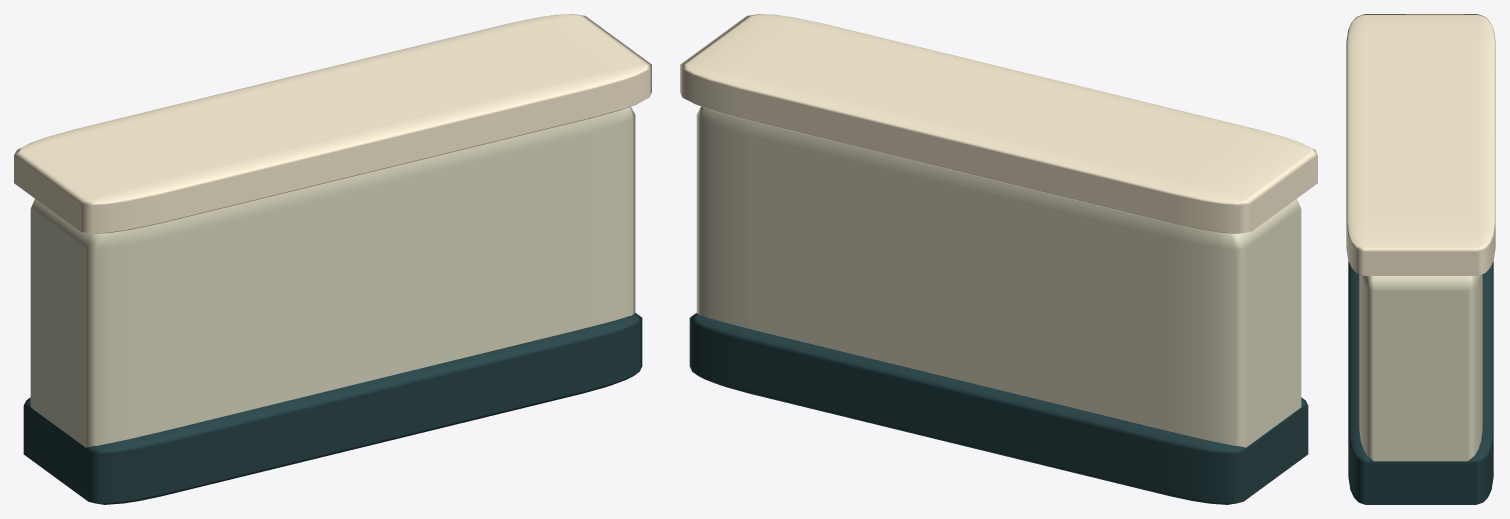
File: wall.glb
The picture shows the model from 3 angles, left to right: view 1: azimuth 30°, elevation 25°; view 2: azimuth 150°, elevation 25°; view 3: azimuth 270°, elevation 25°; orthographic projection. The views are drawn at different scales.
Parts seen in each view (by area): view 1: wall, wall-cap, wall-base; view 2: wall, wall-cap, wall-base; view 3: wall-cap, wall, wall-base.
Part boxes in pixels (x1,y1,x2,y2): wall: (30, 106, 635, 447); wall-cap: (14, 14, 651, 233); wall-base: (23, 313, 642, 504); wall: (696, 106, 1301, 447); wall-cap: (680, 14, 1317, 233); wall-base: (689, 313, 1308, 504); wall-cap: (1346, 14, 1495, 275); wall: (1359, 274, 1482, 461); wall-base: (1348, 261, 1493, 504).
Bounding box in the file's own units: 2.6 × 1.36 × 0.69.
